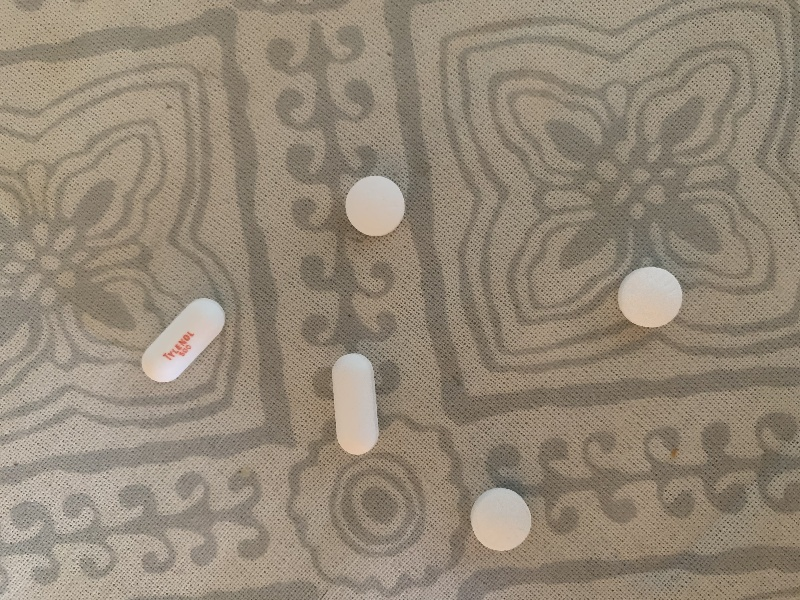Aspirin: (615, 266, 687, 331), (470, 486, 535, 553), (343, 173, 407, 240)
Tylenol: (133, 295, 229, 384), (325, 352, 385, 459)
